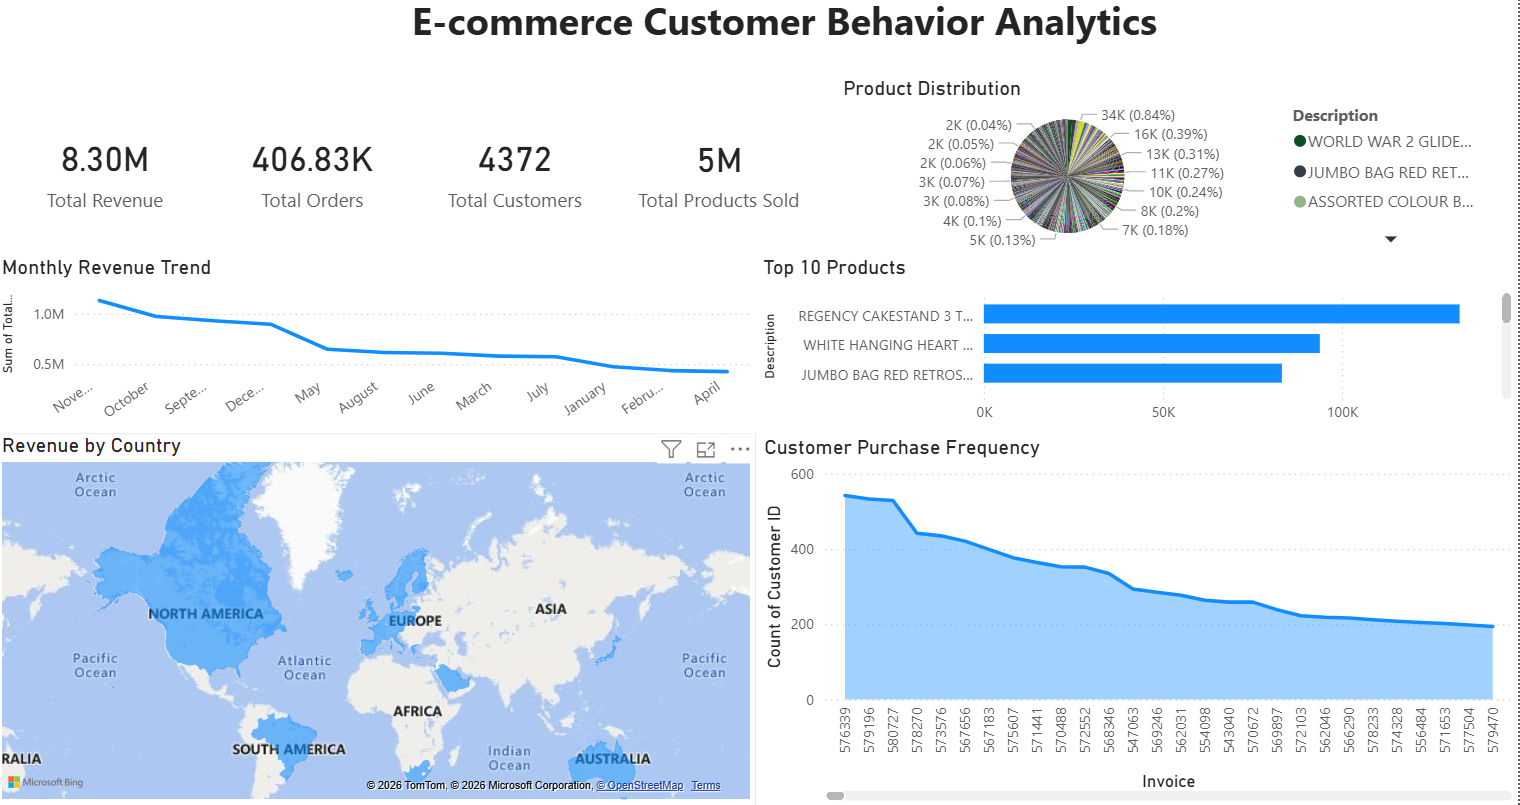

The dashboard page shown, as its layout file describes it:
{"tool":"powerbi","page":{"name":"Page 1","canvas":[1280,720],"ordinal":0},"visuals":[{"type":"card","fields":{"Values":["Sum(clean_ecommerce_data.TotalPrice)"]},"box":[0,95.3,183.7,150],"z":0},{"type":"card","fields":{"Values":["CountNonNull(clean_ecommerce_data.Invoice)"]},"box":[180.2,95.3,172.1,150],"z":1000},{"type":"card","fields":{"Values":["Count(clean_ecommerce_data.Customer ID)"]},"box":[352.3,95.3,168.6,150],"z":2000},{"type":"card","fields":{"Values":["Sum(clean_ecommerce_data.Quantity)"]},"box":[520.9,95.3,174.4,151.2],"z":3000},{"type":"lineChart","title":"Monthly Revenue Trend","fields":{"Category":["clean_ecommerce_data.MonthName"],"Y":["Sum(clean_ecommerce_data.TotalPrice)"]},"box":[0,245.3,640.7,151.2],"z":4000},{"type":"barChart","title":"Top 10 Products","fields":{"Category":["clean_ecommerce_data.Description"],"Y":["Sum(clean_ecommerce_data.TotalPrice)"]},"box":[640.8,245.6,639.5,150.9],"z":5000},{"type":"filledMap","title":"Revenue by Country","fields":{"Category":["clean_ecommerce_data.Country"]},"box":[0,396.5,640.7,312.8],"z":6000},{"type":"areaChart","title":"Customer Purchase Frequency","fields":{"Y":["CountNonNull(clean_ecommerce_data.Customer ID)"],"Category":["clean_ecommerce_data.Invoice"]},"box":[641,397,639,313],"z":7000},{"type":"pieChart","title":"Product Distribution","fields":{"Category":["clean_ecommerce_data.Description"],"Y":["Sum(clean_ecommerce_data.Quantity)"]},"box":[694.2,95.3,586,151.2],"z":8000},{"type":"textbox","box":[322.5,22,680.6,60.4],"z":9000}]}

Visuals, with their boxes on the page's 1280x720 design canvas (x1, y1, x2, y2). These are canvas units, not pixel positions in the 1520x805 screenshot, which may show the page scaled, cropped or inside an application window:
card - Sum(clean_ecommerce_data.TotalPrice): [x1=0, y1=95, x2=184, y2=245]
card - CountNonNull(clean_ecommerce_data.Invoice): [x1=180, y1=95, x2=352, y2=245]
card - Count(clean_ecommerce_data.Customer ID): [x1=352, y1=95, x2=521, y2=245]
card - Sum(clean_ecommerce_data.Quantity): [x1=521, y1=95, x2=695, y2=246]
"Monthly Revenue Trend" lineChart: [x1=0, y1=245, x2=641, y2=396]
"Top 10 Products" barChart: [x1=641, y1=246, x2=1280, y2=396]
"Revenue by Country" filledMap: [x1=0, y1=396, x2=641, y2=709]
"Customer Purchase Frequency" areaChart: [x1=641, y1=397, x2=1280, y2=710]
"Product Distribution" pieChart: [x1=694, y1=95, x2=1280, y2=246]
textbox: [x1=322, y1=22, x2=1003, y2=82]
